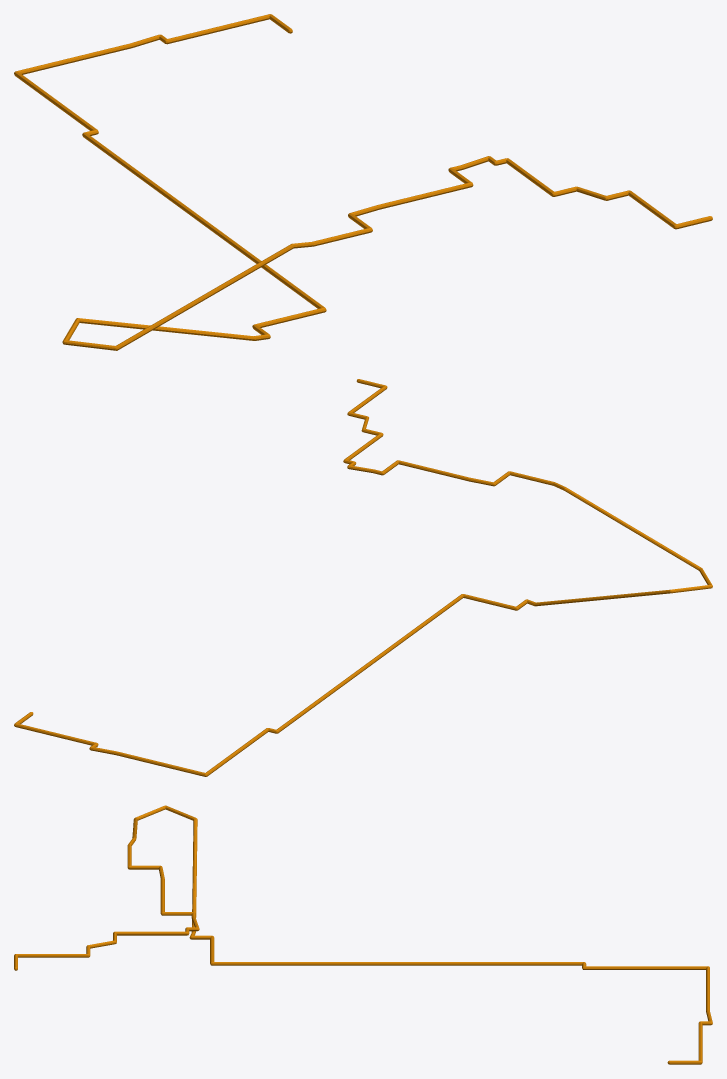
3 views of the same model, one above another, from view 1: azimuth 30°, elevation 25°; view 2: azimuth 150°, elevation 25°; view 3: azimuth 270°, elevation 25° (orthographic). The views are drawn at different scales.
Size of the model in its own units: 2407 by 520 by 3383.
